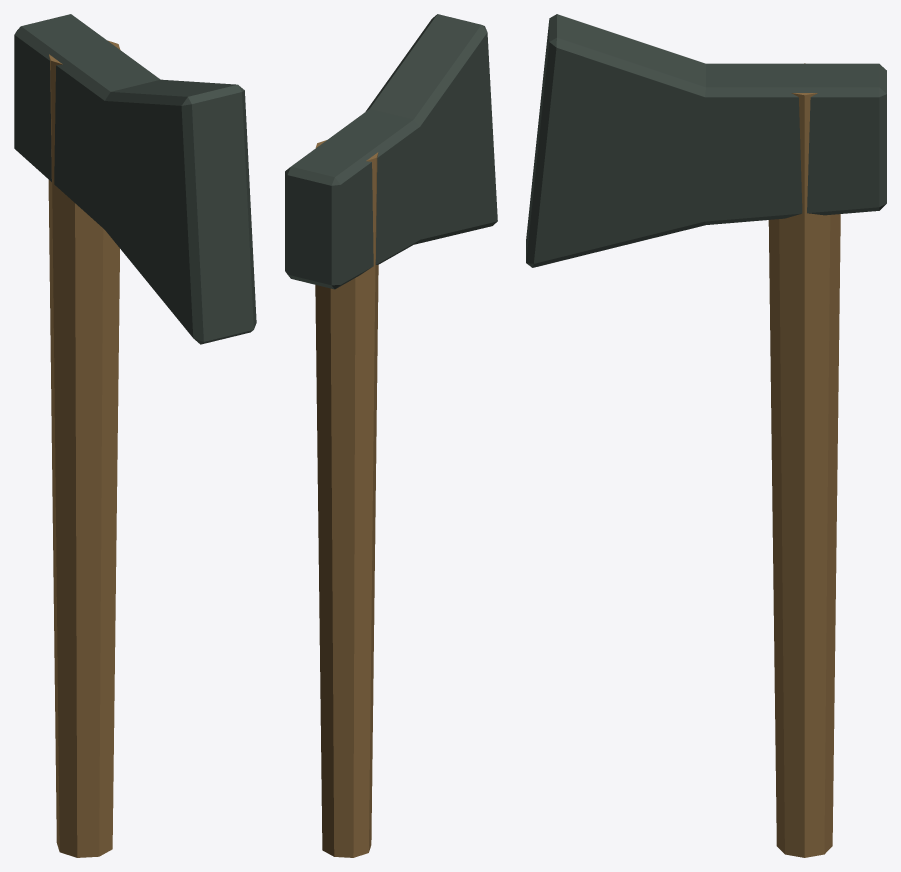
The model's file is MabbFellingAxe.glb.
The picture shows the model from 3 angles, left to right: view 1: azimuth 30°, elevation 25°; view 2: azimuth 150°, elevation 25°; view 3: azimuth 270°, elevation 25°; orthographic projection. The views are drawn at different scales.
Visible parts, largest first — view 1: Plain heavy iron head, Felling axe haft; view 2: Plain heavy iron head, Felling axe haft; view 3: Plain heavy iron head, Felling axe haft.
Part boxes in pixels (x1,y1,x2,y2): Plain heavy iron head: (14,14,256,344); Felling axe haft: (48,40,120,857); Plain heavy iron head: (285,14,497,289); Felling axe haft: (315,140,378,857); Plain heavy iron head: (526,14,886,267); Felling axe haft: (768,63,840,857).
Size of the model in its own units: 0.092 by 1.1 by 0.4391.
